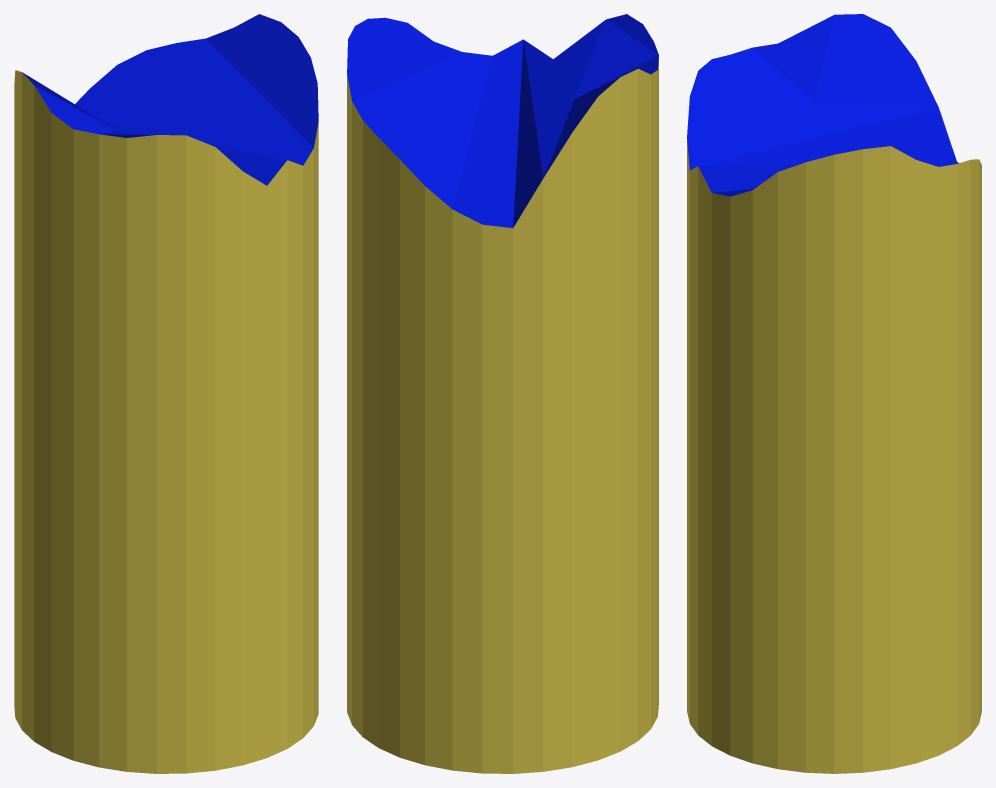
File: Deco_Pillar.fbx
3 renders of one model, left to right at view 1: azimuth 30°, elevation 25°; view 2: azimuth 150°, elevation 25°; view 3: azimuth 270°, elevation 25°, orthographic. The views are drawn at different scales.
Parts seen in each view (by area): view 1: Deco_pillar; view 2: Deco_pillar; view 3: Deco_pillar.
Part boxes in pixels (<box>): Deco_pillar: <box>14,14,318,773</box>; Deco_pillar: <box>347,14,658,773</box>; Deco_pillar: <box>687,14,981,773</box>.
Bounding box in the file's own units: 200 × 476 × 200.
